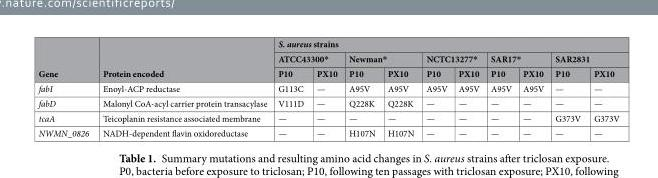table: (37, 37, 618, 138)
table column: (95, 37, 271, 138), (37, 37, 95, 138), (380, 37, 419, 138), (271, 37, 309, 138), (342, 37, 380, 138), (548, 37, 586, 138), (309, 37, 342, 138), (419, 37, 452, 138), (452, 37, 484, 138), (484, 37, 516, 138), (516, 37, 548, 138), (586, 37, 618, 138)
table column header: (37, 37, 618, 80)
table row: (37, 50, 618, 66), (37, 80, 618, 95), (37, 95, 618, 110), (37, 110, 618, 125), (37, 66, 618, 80), (37, 37, 618, 50), (37, 125, 618, 138)
table spanning cell: (95, 37, 271, 80), (271, 37, 618, 50), (37, 37, 95, 80), (342, 50, 419, 66), (271, 50, 342, 66), (548, 50, 618, 66), (419, 50, 484, 66), (484, 50, 548, 66)
